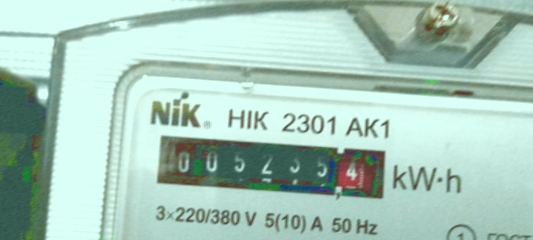0: (174, 148, 191, 175), (203, 148, 218, 173)
2: (258, 150, 273, 175)
3: (286, 149, 301, 175)
4: (343, 156, 359, 183)
5: (230, 148, 246, 175), (313, 152, 329, 179)
screen: (146, 126, 397, 208)
